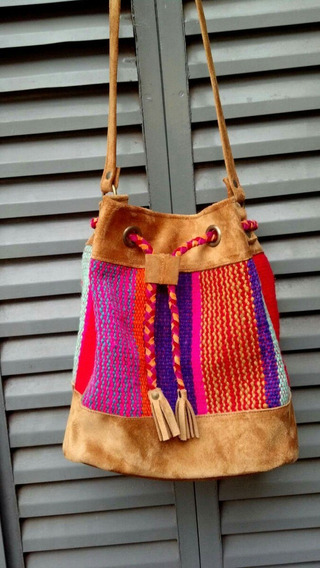cartera: (58, 1, 300, 483)
